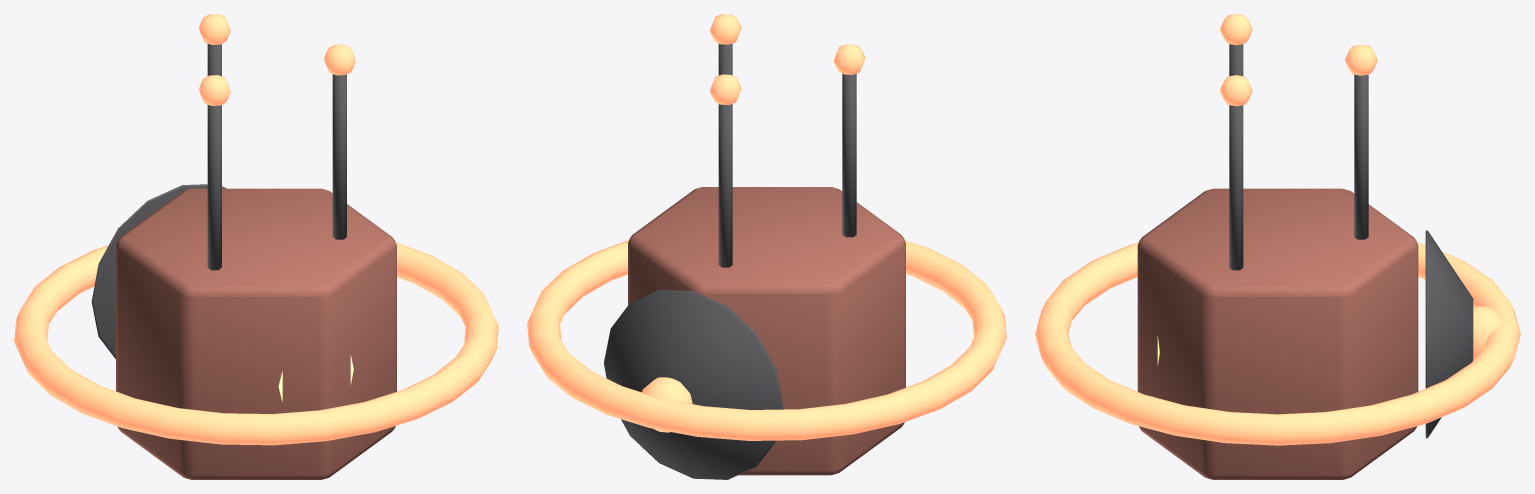
File: stoerer.glb
3 views of the same model, side by side, from view 1: azimuth 30°, elevation 25°; view 2: azimuth 150°, elevation 25°; view 3: azimuth 270°, elevation 25° (orthographic).
Parts seen in each view (by area): view 1: Rumpf.003, Ring, Schuessel, Antenne2, Antenne1, Spitze1, Spitze0, Spitze2; view 2: Rumpf.003, Ring, Schuessel, Antenne2, Antenne0, Auge.002, Spitze0, Spitze1, Spitze2; view 3: Rumpf.003, Ring, Schuessel, Antenne0, Antenne1, Auge.002, Spitze0, Spitze2, Spitze1.
Part boxes in pixels (box(x1,y1,x2,y2)): Rumpf.003: box(116, 188, 396, 479); Ring: box(14, 242, 498, 445); Schuessel: box(91, 184, 226, 359); Antenne2: box(207, 105, 221, 270); Antenne1: box(332, 74, 346, 239); Spitze1: box(324, 44, 355, 75); Spitze0: box(198, 14, 230, 44); Spitze2: box(198, 75, 230, 105); Rumpf.003: box(628, 187, 905, 475); Ring: box(527, 240, 1006, 440); Schuessel: box(604, 289, 782, 479); Antenne2: box(842, 73, 856, 237); Antenne0: box(718, 104, 732, 267); Auge.002: box(642, 377, 692, 432); Spitze0: box(710, 74, 741, 104); Spitze1: box(710, 14, 741, 44); Spitze2: box(833, 44, 865, 74); Rumpf.003: box(1137, 188, 1418, 479); Ring: box(1035, 242, 1520, 445); Schuessel: box(1425, 230, 1473, 438); Antenne0: box(1354, 74, 1368, 239); Antenne1: box(1229, 105, 1243, 270); Auge.002: box(1473, 306, 1502, 359); Spitze0: box(1345, 44, 1377, 75); Spitze2: box(1219, 14, 1252, 45); Spitze1: box(1219, 75, 1252, 106).
Bounding box in the file's own units: 2.04 × 1.79 × 2.04.
